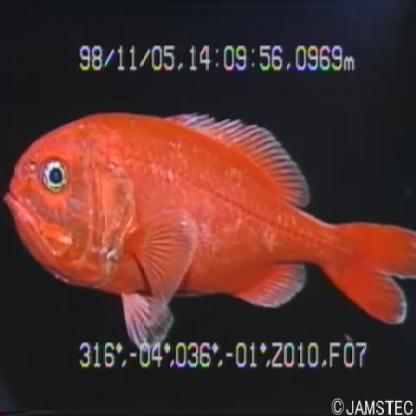Bio: (4, 107, 416, 355)
